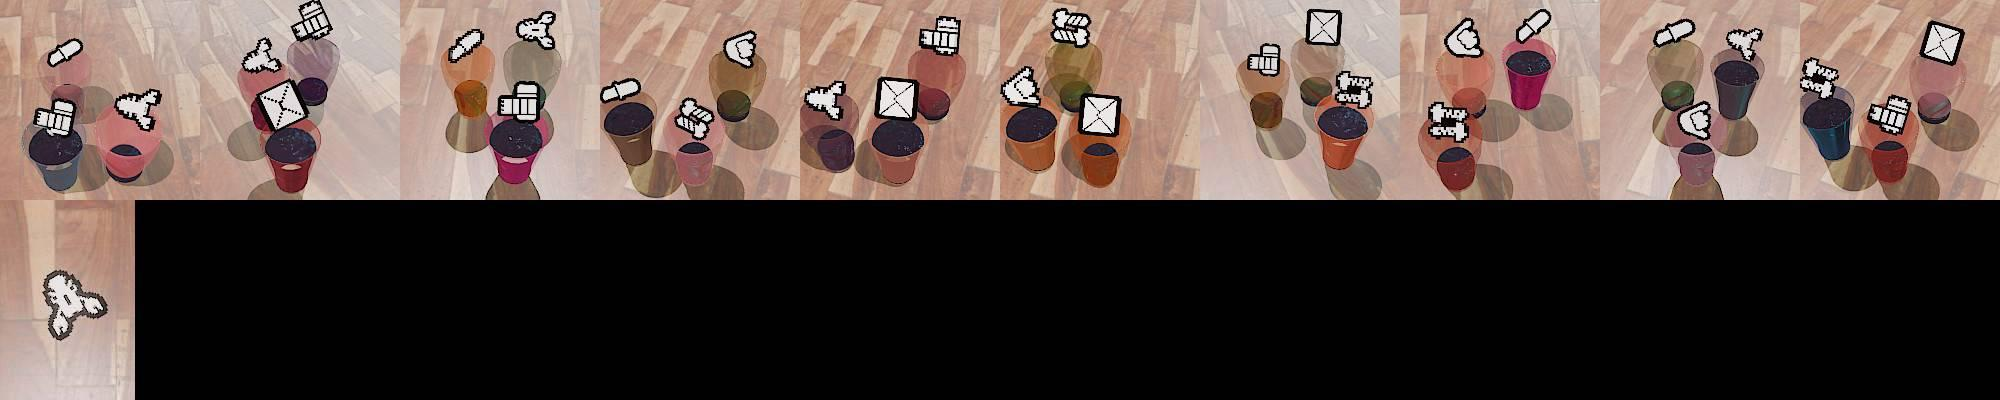icon: (41, 268, 106, 340), (255, 78, 310, 132), (1919, 20, 1964, 67), (875, 75, 919, 121), (114, 89, 162, 131), (496, 78, 544, 119), (1080, 91, 1122, 137), (917, 13, 960, 57), (34, 94, 76, 139), (290, 0, 334, 42), (1866, 94, 1909, 136), (1427, 100, 1469, 143), (803, 78, 846, 119), (515, 10, 558, 51), (674, 95, 714, 139), (1000, 66, 1041, 107), (1050, 7, 1092, 47), (241, 36, 284, 75), (1444, 17, 1483, 59), (1799, 57, 1840, 96), (1333, 70, 1374, 109), (1677, 99, 1712, 140), (447, 27, 484, 65), (1305, 8, 1341, 47), (1515, 7, 1552, 44), (1724, 27, 1762, 62), (723, 29, 757, 68), (1654, 18, 1696, 48), (1247, 41, 1282, 76), (47, 37, 84, 69), (599, 75, 641, 102)
